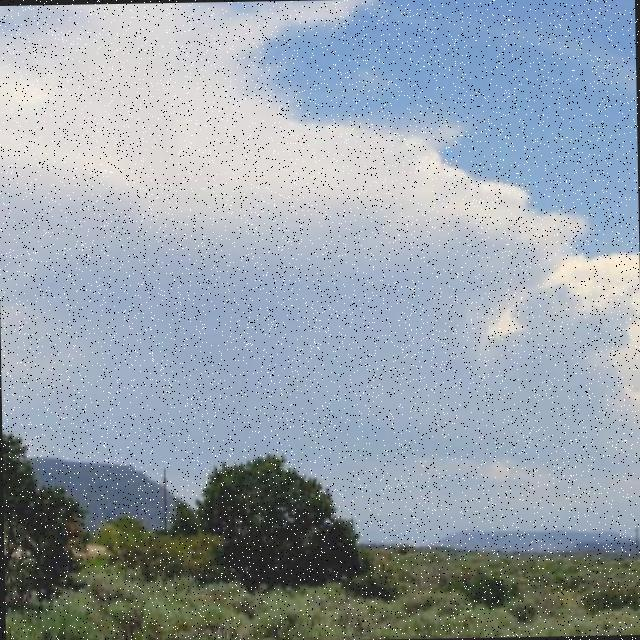Cs: (1, 1, 640, 372)
